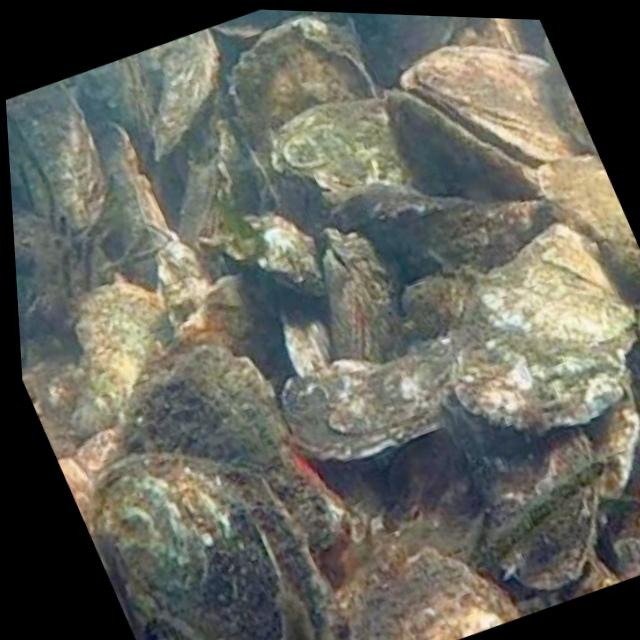Oyster-Closed: (332, 190, 556, 285), (6, 82, 107, 231), (96, 119, 158, 283), (147, 222, 175, 252)
Oyster-Indeterminate: (128, 349, 350, 555), (98, 450, 335, 640), (461, 232, 635, 431), (232, 15, 378, 232), (282, 344, 454, 456), (404, 52, 590, 154), (385, 87, 540, 197), (358, 547, 522, 640), (76, 286, 172, 435), (269, 95, 411, 190), (537, 160, 640, 287), (149, 35, 221, 161), (168, 279, 260, 362), (75, 63, 138, 135)
Oyster-Open: (317, 228, 413, 360)
